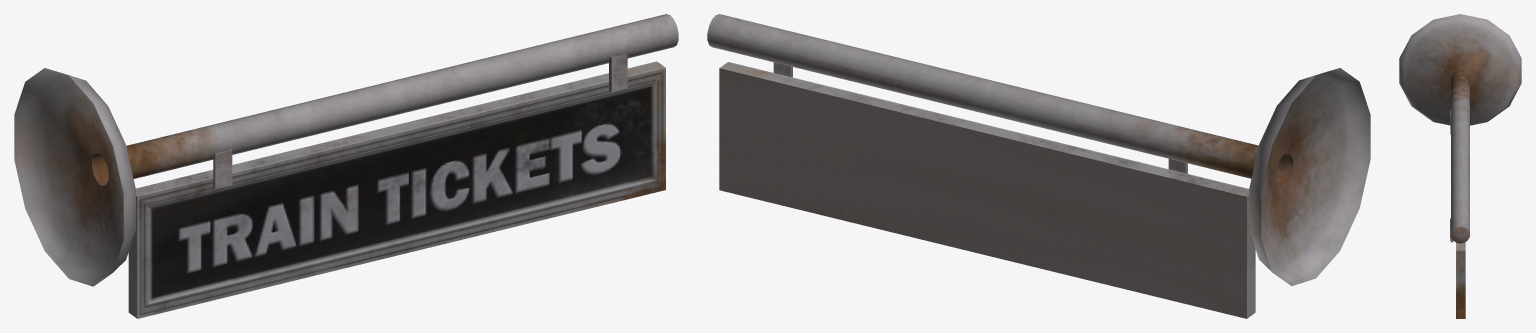
The model's file is TrainTicketSign_Scaled.fbx.
The picture shows the model from 3 angles, left to right: view 1: azimuth 30°, elevation 25°; view 2: azimuth 150°, elevation 25°; view 3: azimuth 270°, elevation 25°; orthographic projection. The views are drawn at different scales.
Parts seen in each view (by area): view 1: TrainTickets_Sign, TrainTicketSign_Pole, TrainTicketSign_Joint1, TrainTicketSign_Joint2; view 2: TrainTickets_Sign, TrainTicketSign_Pole; view 3: TrainTicketSign_Pole, TrainTickets_Sign.
Boxes of the visible parts, <box> form: TrainTickets_Sign: <box>128,61,665,318</box>; TrainTicketSign_Pole: <box>14,14,678,286</box>; TrainTicketSign_Joint1: <box>213,149,232,188</box>; TrainTicketSign_Joint2: <box>609,53,627,92</box>; TrainTickets_Sign: <box>719,62,1255,318</box>; TrainTicketSign_Pole: <box>707,14,1370,286</box>; TrainTicketSign_Pole: <box>1399,14,1521,243</box>; TrainTickets_Sign: <box>1456,242,1465,318</box>.
Bounding box in the file's own units: 169 × 68.28 × 52.87.
